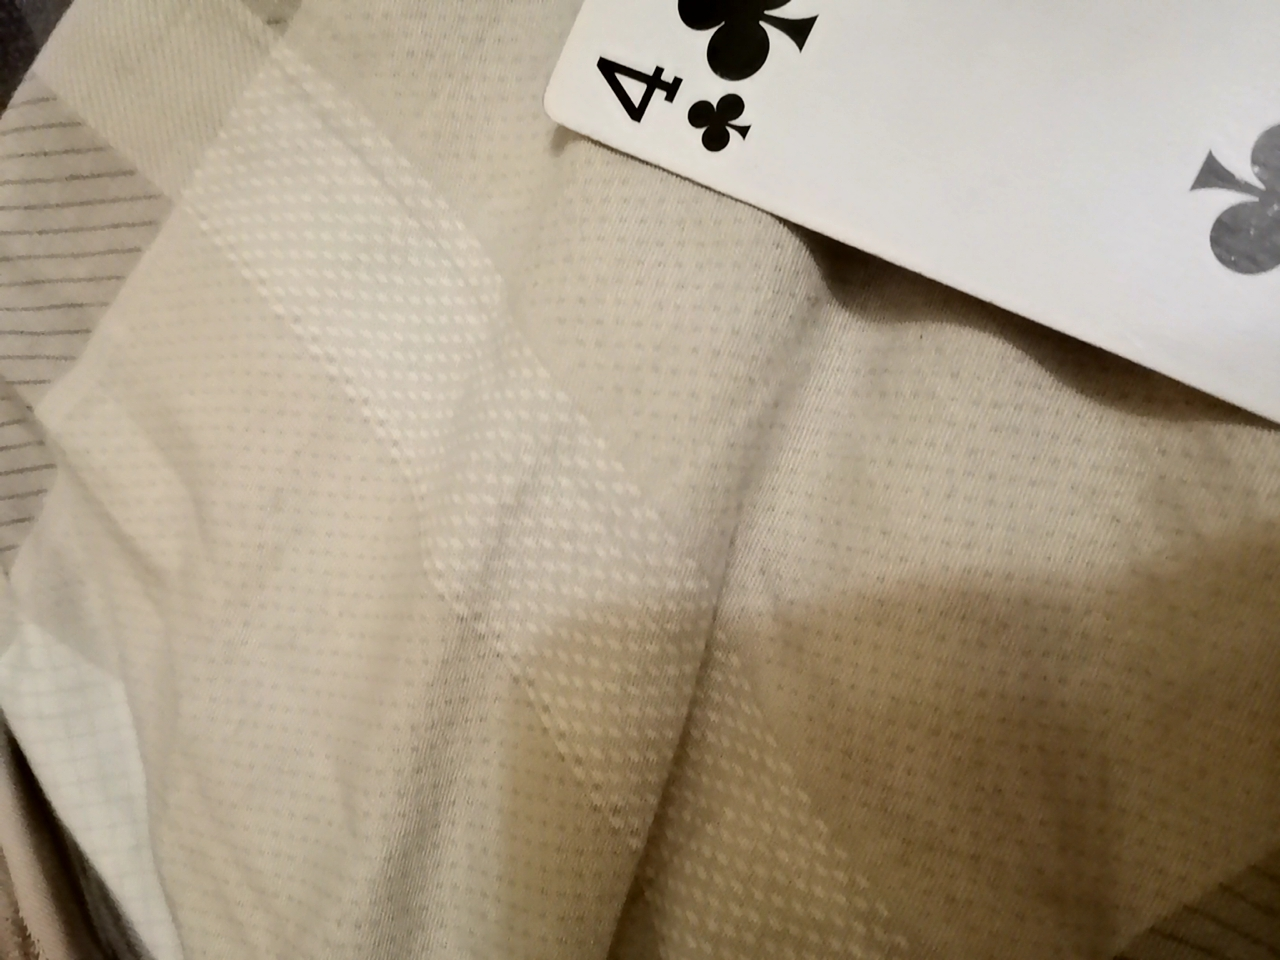mh 4: (515, 0, 1266, 482)
